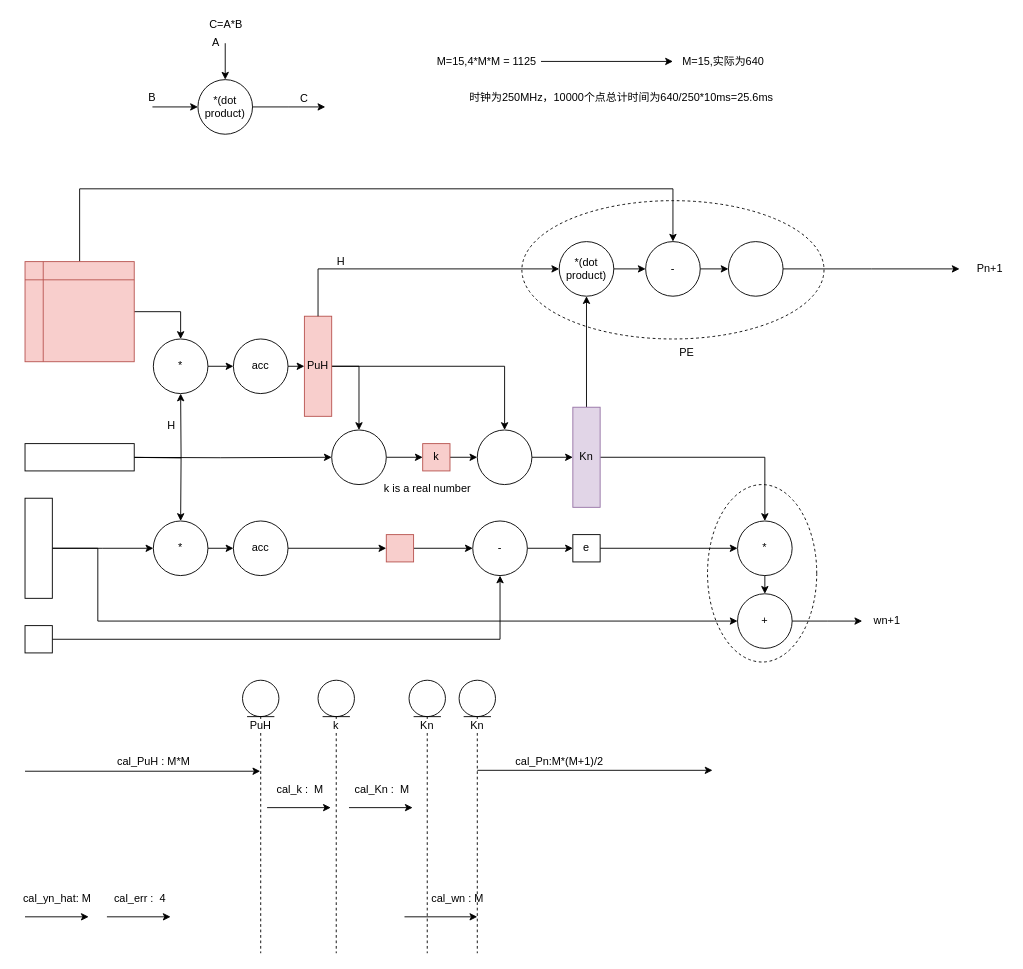
The diagram is 1023 pixels wide and 969 high, and some of its shapes have lost their labels. The shapes that lost their labels are listed below. From the top down, each one's centre as x and y in pixels, then its label:
At (755,268): "/lambda".
At (79,311): "Pn".
At (79,457): "un".
At (358,457): "A*B+lambda".
At (504,457): "divide".
At (38,547): "wn".
At (399,548): "yn_hat".
At (38,639): "yn".
